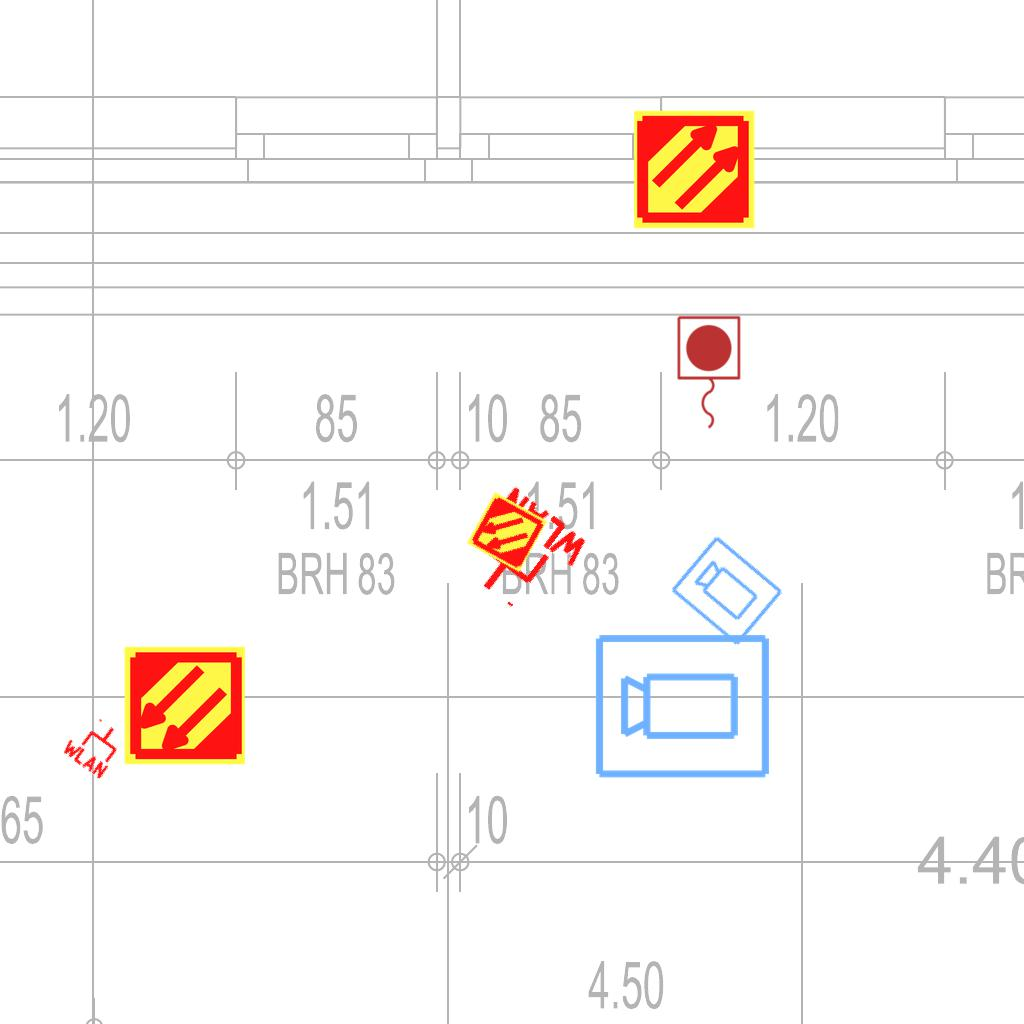ASR_Ansaugrauchmelder: (122, 643, 247, 768), (632, 107, 757, 232), (464, 489, 550, 575)
KFO_Kamera_mit_Festobjektiv: (592, 628, 774, 782), (667, 531, 788, 650)
WLAN: (449, 481, 596, 629), (58, 708, 132, 782)
Zugtaster: (672, 312, 744, 434)
